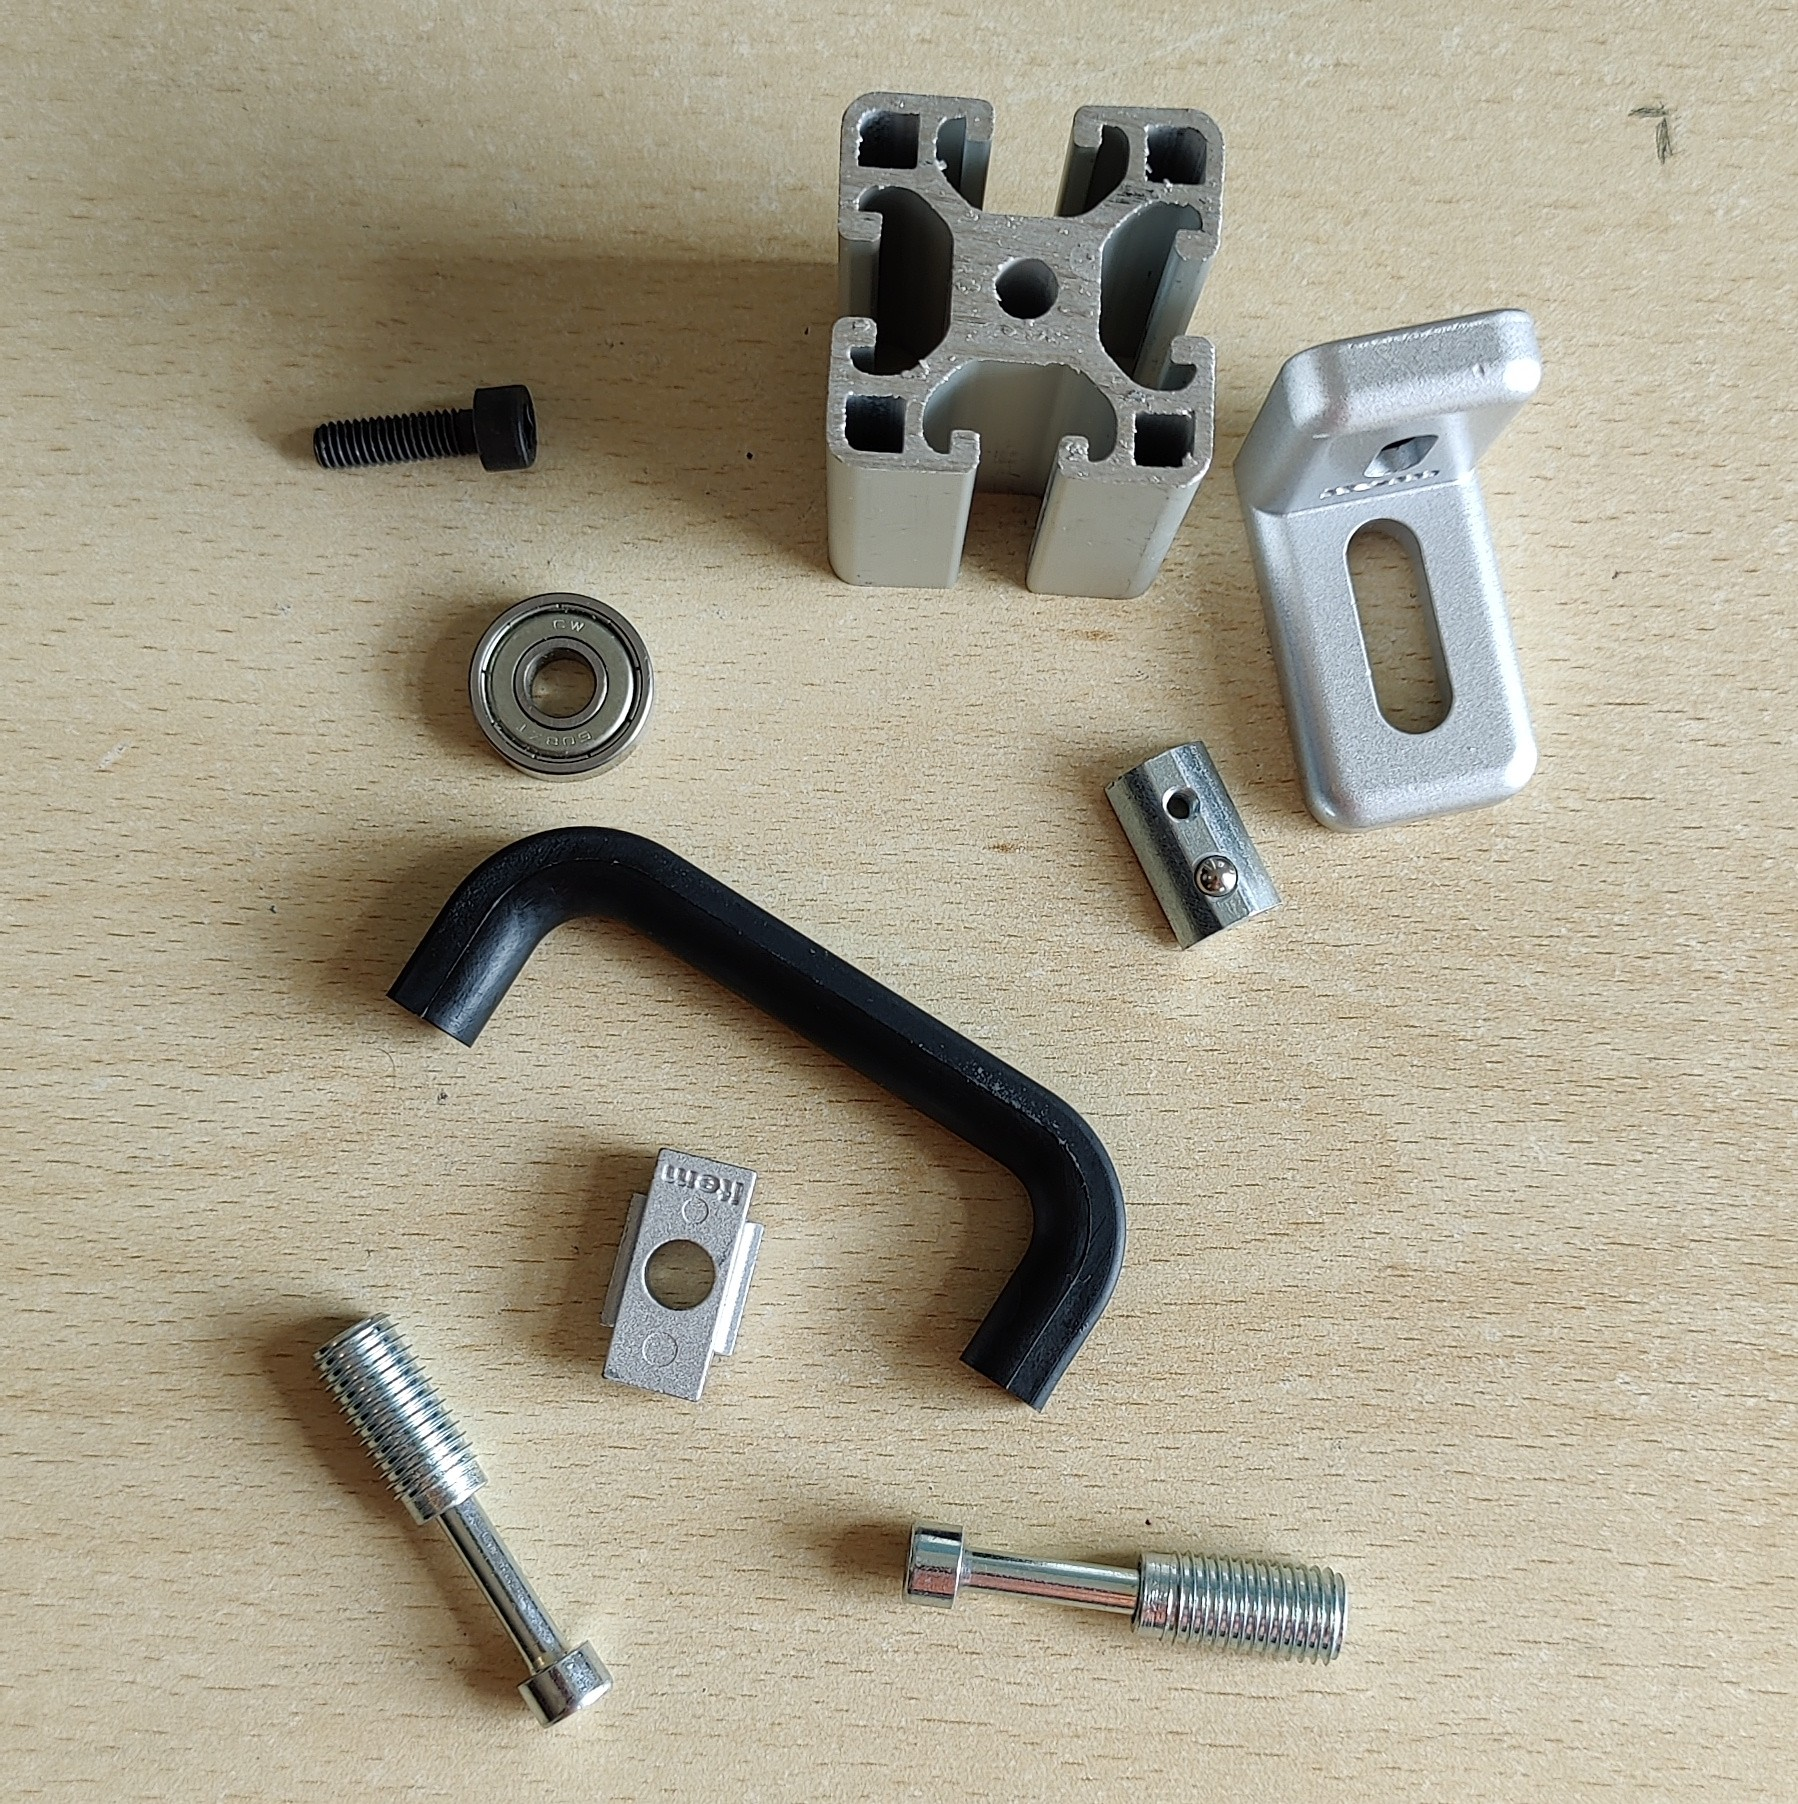Aluminium Extension: (822, 87, 1230, 601)
Ball Bearing: (468, 589, 654, 785)
Multiwinkel: (1228, 308, 1541, 831)
Pull Handle: (382, 823, 1128, 1416)
Shoulder Socket Head Cap Screw: (310, 1309, 616, 1733), (902, 1514, 1350, 1667)
Socket Head Cap Screw: (310, 377, 540, 474)
T Nut Square: (598, 1146, 766, 1402)
T Spring Nut: (1095, 734, 1288, 955)
